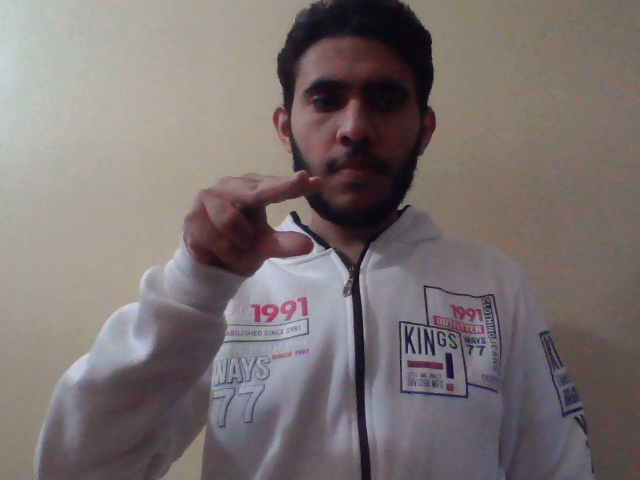no: (178, 167, 325, 274)
